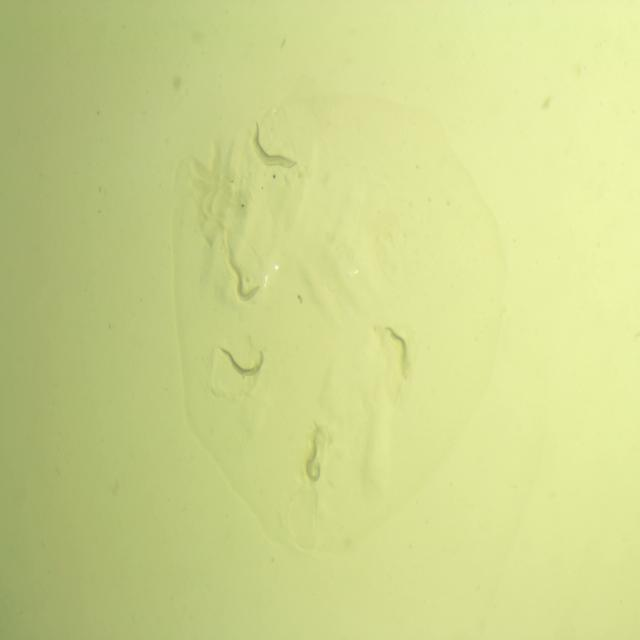worm: (253, 118, 298, 168), (251, 129, 299, 174), (218, 344, 266, 380), (228, 260, 262, 305), (382, 324, 410, 378), (302, 426, 324, 486)
